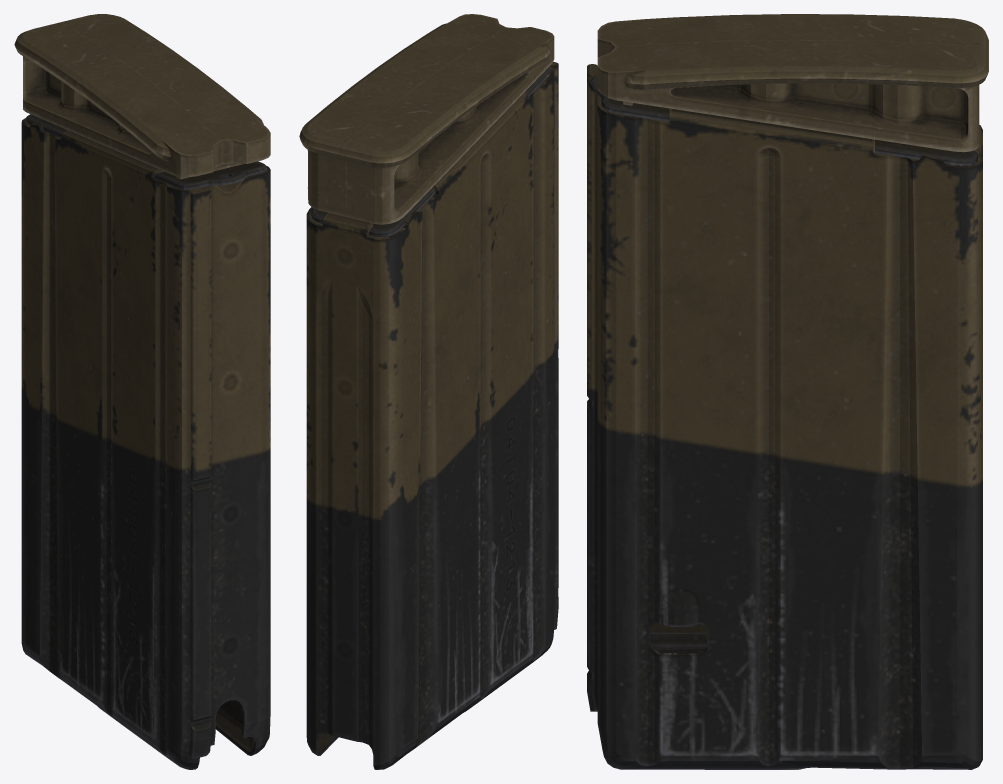
3 renders of one model, left to right at view 1: azimuth 30°, elevation 25°; view 2: azimuth 150°, elevation 25°; view 3: azimuth 270°, elevation 25°, orthographic. The views are drawn at different scales.
Parts seen in each view (by area): view 1: TW_6183d53f1cb55961fa0fdcda_PZ_Import; view 2: TW_6183d53f1cb55961fa0fdcda_PZ_Import; view 3: TW_6183d53f1cb55961fa0fdcda_PZ_Import.
Part boxes in pixels (x1,y1,x2,y2): TW_6183d53f1cb55961fa0fdcda_PZ_Import: (14,14,270,769); TW_6183d53f1cb55961fa0fdcda_PZ_Import: (299,14,558,769); TW_6183d53f1cb55961fa0fdcda_PZ_Import: (587,14,988,769).
Bounding box in the file's own units: 0.0165 × 0.0468 × 0.0915.
1 material, 1 textured.
